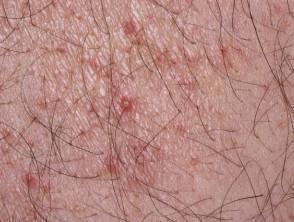folliculitis: (114, 89, 135, 111)
papular: (21, 170, 40, 191)
